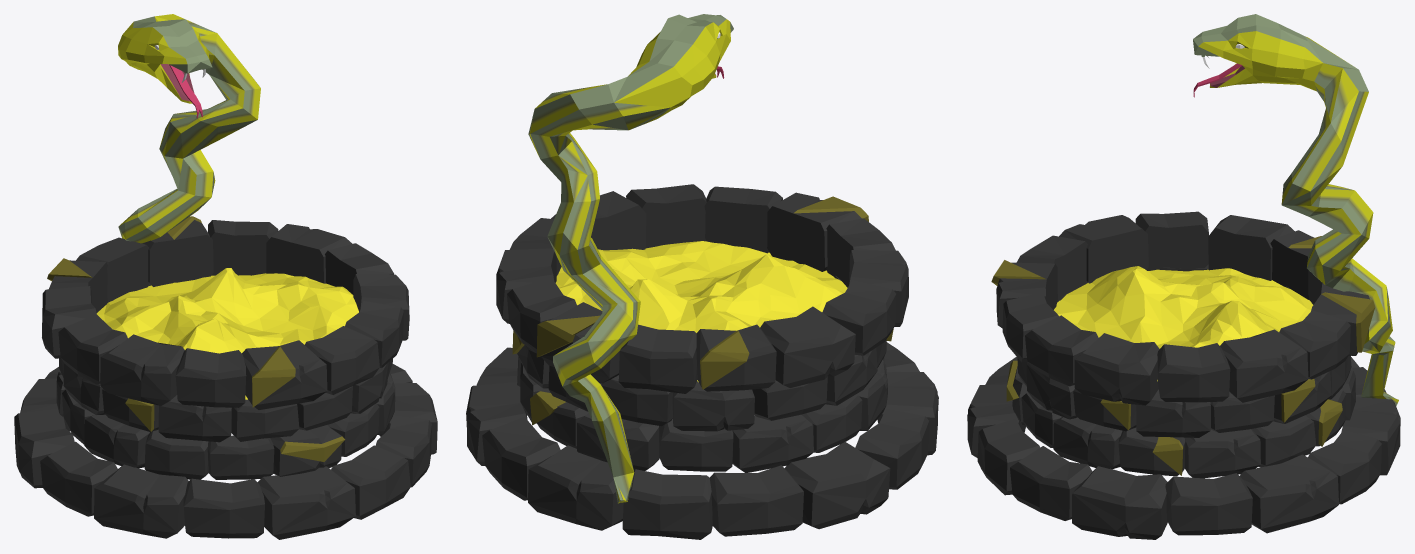
Rendered from WF_LP_HT_Build_FountainWithSnake.fbx.
3 renders of one model, left to right at view 1: azimuth 30°, elevation 25°; view 2: azimuth 150°, elevation 25°; view 3: azimuth 270°, elevation 25°, orthographic. The views are drawn at different scales.
Parts seen in each view (by area): view 1: WF_LP_HT_Build_FountainWithSnake; view 2: WF_LP_HT_Build_FountainWithSnake; view 3: WF_LP_HT_Build_FountainWithSnake.
Boxes of the visible parts, x1,y1,x2,y2 form: WF_LP_HT_Build_FountainWithSnake: (14, 14, 437, 539); WF_LP_HT_Build_FountainWithSnake: (466, 14, 938, 539); WF_LP_HT_Build_FountainWithSnake: (967, 14, 1400, 539).
Bounding box in the file's own units: 1.94 × 2.13 × 1.97.
